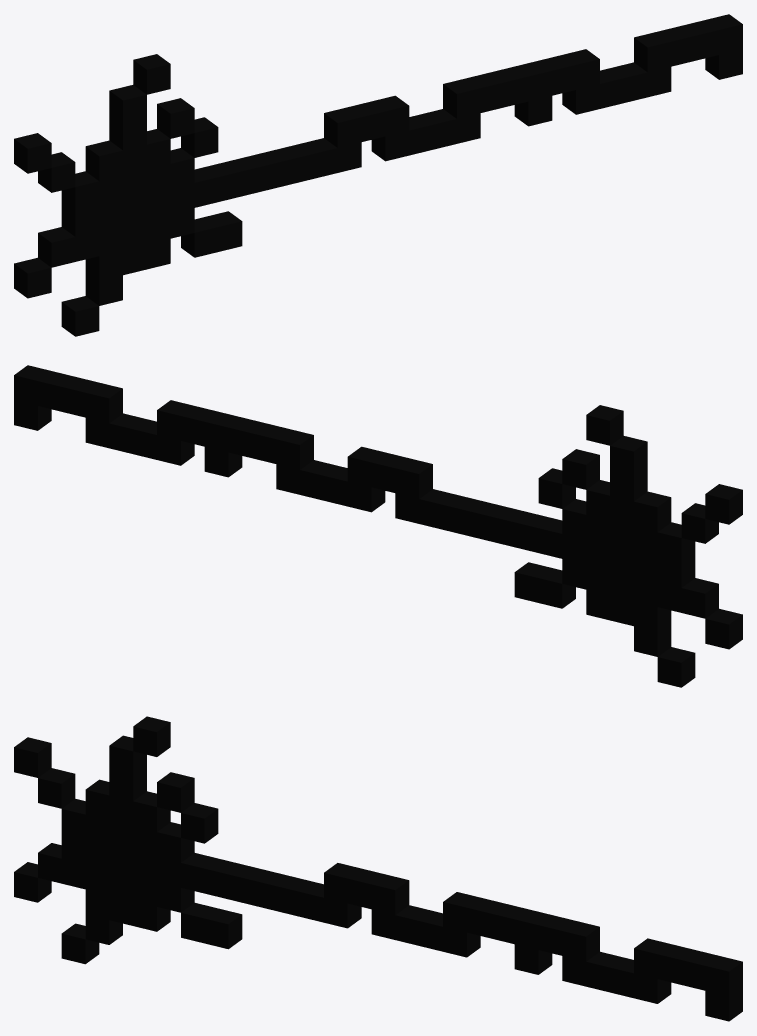
File: Gauge_Gore02_Empty.002.fbx
3 renders of one model, top to bottom at view 1: azimuth 30°, elevation 25°; view 2: azimuth 150°, elevation 25°; view 3: azimuth 330°, elevation 25°, orthographic.
Parts seen in each view (by area): view 1: Gauge_Gore02_Empty.002; view 2: Gauge_Gore02_Empty.002; view 3: Gauge_Gore02_Empty.002.
Boxes of the visible parts, x1,y1,x2,y2 form: Gauge_Gore02_Empty.002: (14, 14, 742, 336); Gauge_Gore02_Empty.002: (14, 365, 742, 687); Gauge_Gore02_Empty.002: (14, 716, 742, 1021).
Bounding box in the file's own units: 3 × 1 × 0.1.
